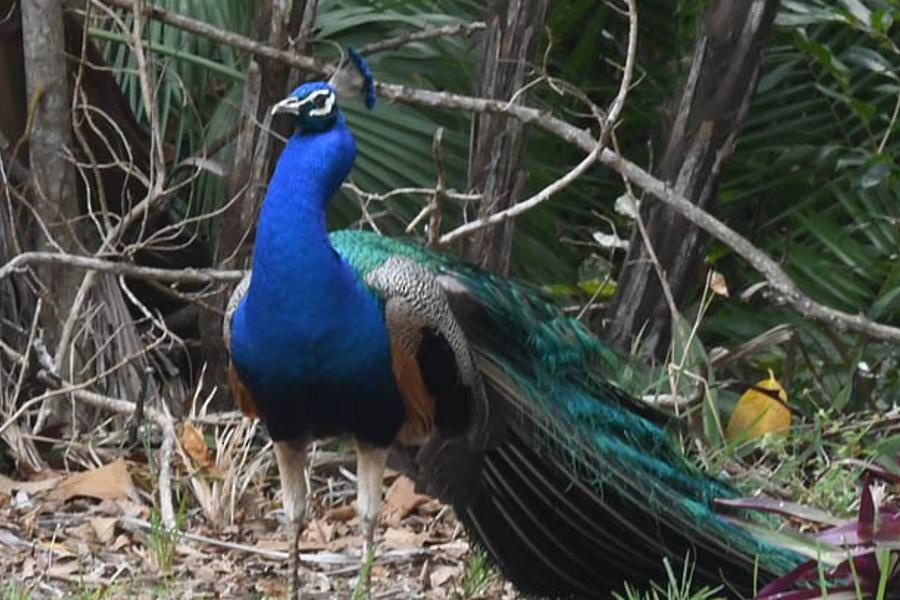peacock: (252, 64, 795, 600)
